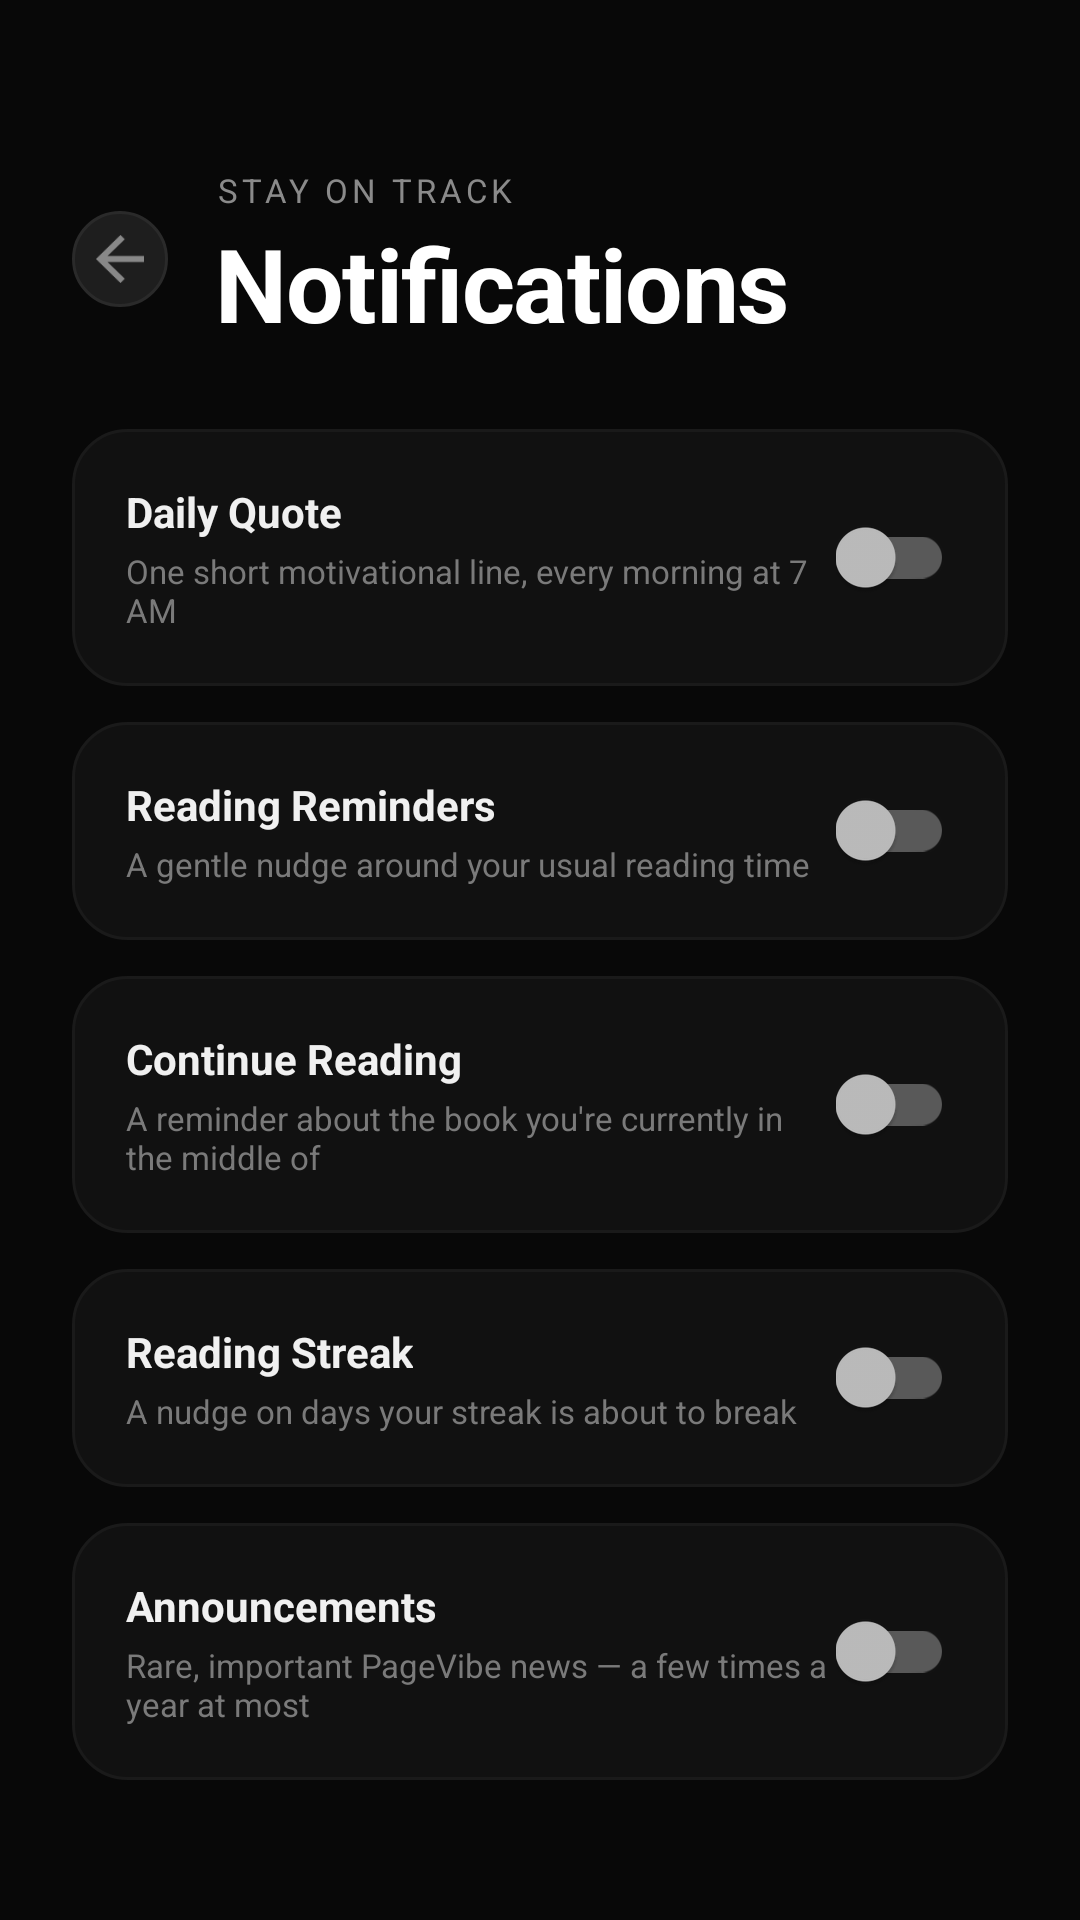

Locate icon controls on the screen. Image size 1080px x 1920px, boxes as bbox(x1, y1, x2, y2).
Go back: bbox(72, 211, 168, 307)
